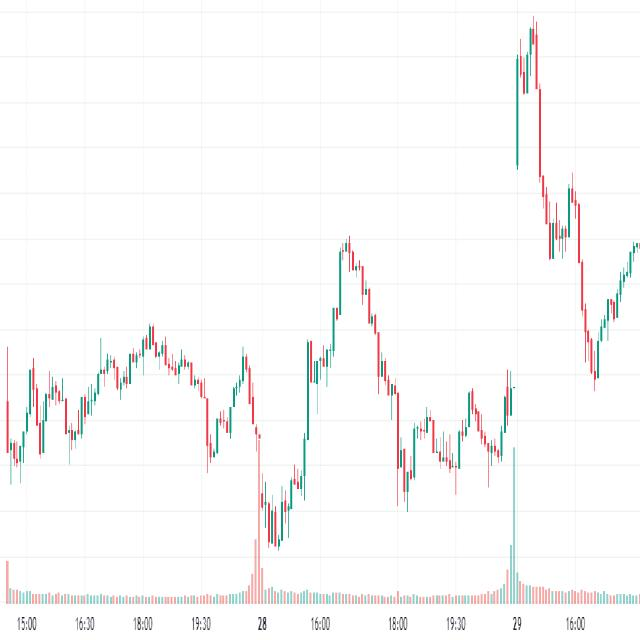Inverse-Head-Shoulders: (152, 239, 344, 554)
